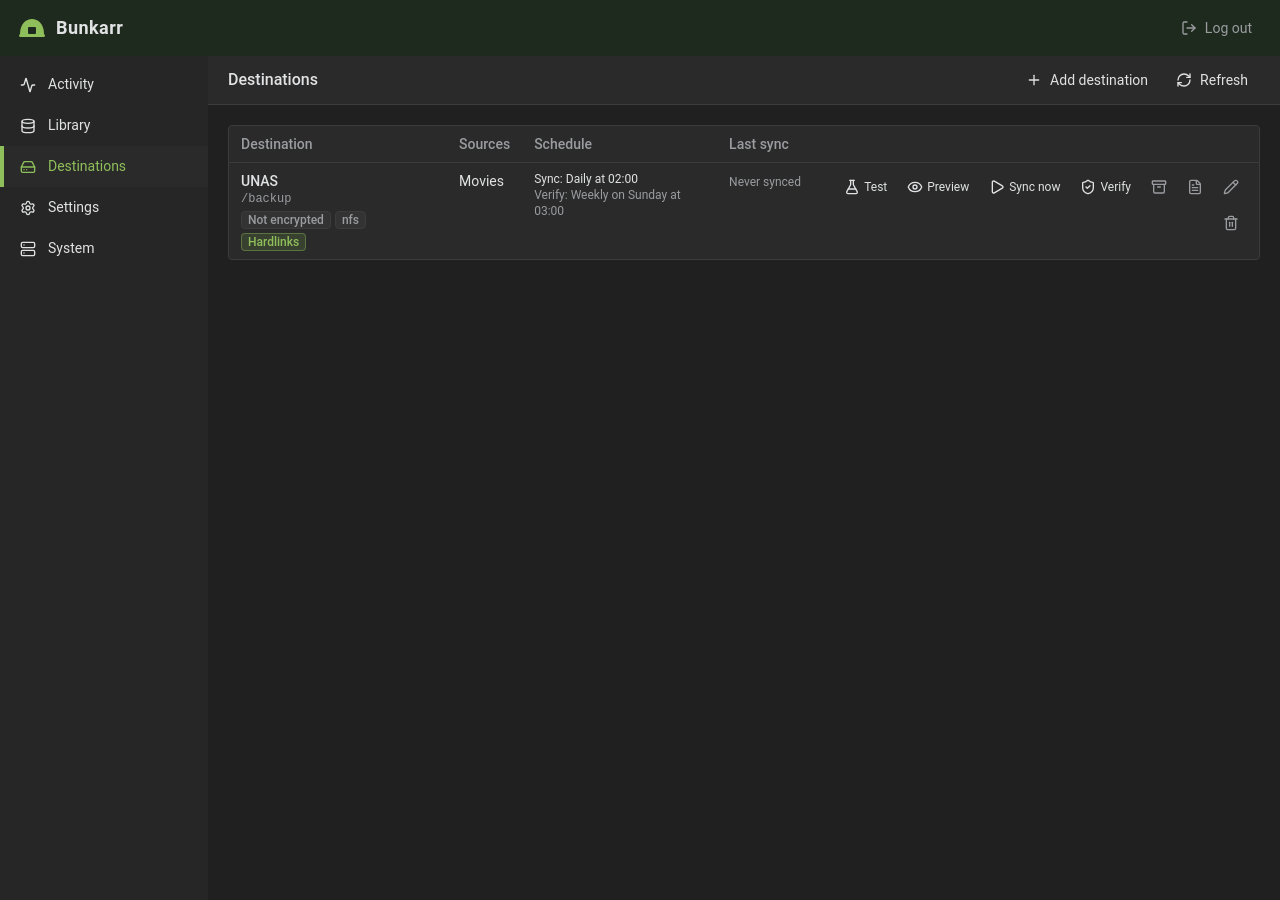
Destination dialogs › lists *arr backups with their kind next to Plex DB versions
The image size is (1280, 900).
Click the button named "Snapshots on UNAS" at (1159, 187), box [1143,171,1175,203]
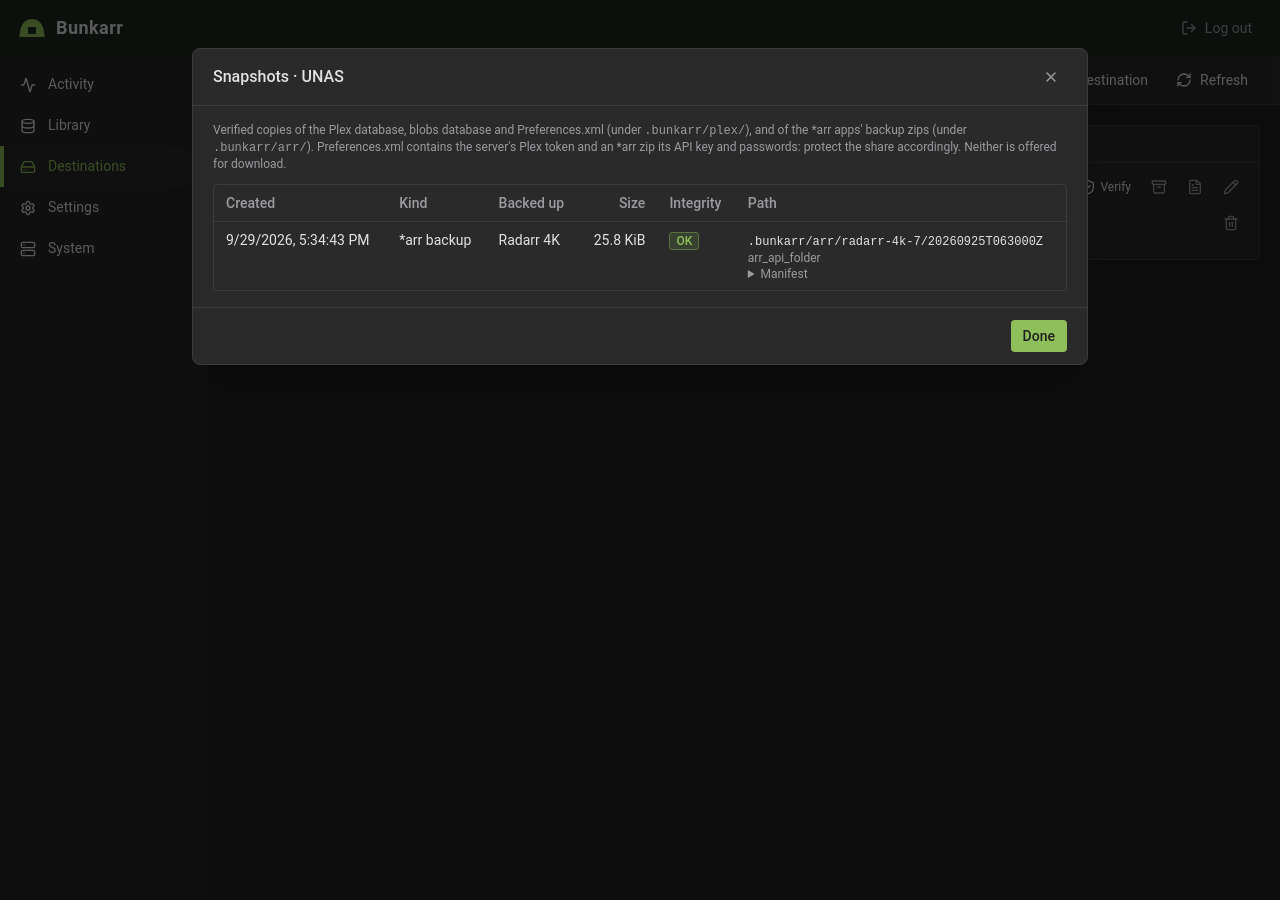
Expected: the text "*arr backup" is shown, [387,222,487,290]
Expected: the text "Radarr 4K" is shown, [487,222,579,290]
